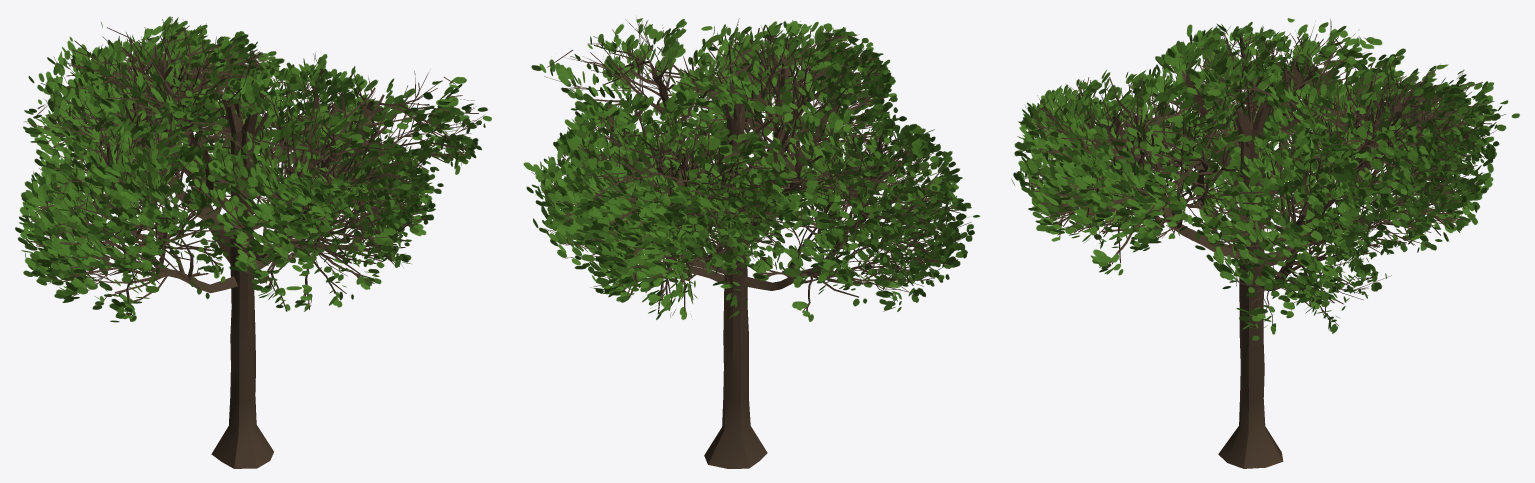
3 views of the same model, side by side, from view 1: azimuth 30°, elevation 25°; view 2: azimuth 150°, elevation 25°; view 3: azimuth 270°, elevation 25° (orthographic).
Visible parts, largest first — view 1: oak 01.001_trunk_Mat.001_0.061; view 2: oak 01.001_trunk_Mat.001_0.061; view 3: oak 01.001_trunk_Mat.001_0.061.
Part boxes in pixels (left/top/right/bottom): oak 01.001_trunk_Mat.001_0.061: left=15, top=16, right=491, bottom=468; oak 01.001_trunk_Mat.001_0.061: left=523, top=17, right=979, bottom=468; oak 01.001_trunk_Mat.001_0.061: left=1011, top=18, right=1519, bottom=468.
Size of the model in its own units: 5.66 by 4.48 by 5.62.
2 materials, 1 textured.
